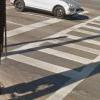Crosswalk: (13, 27, 89, 100)
